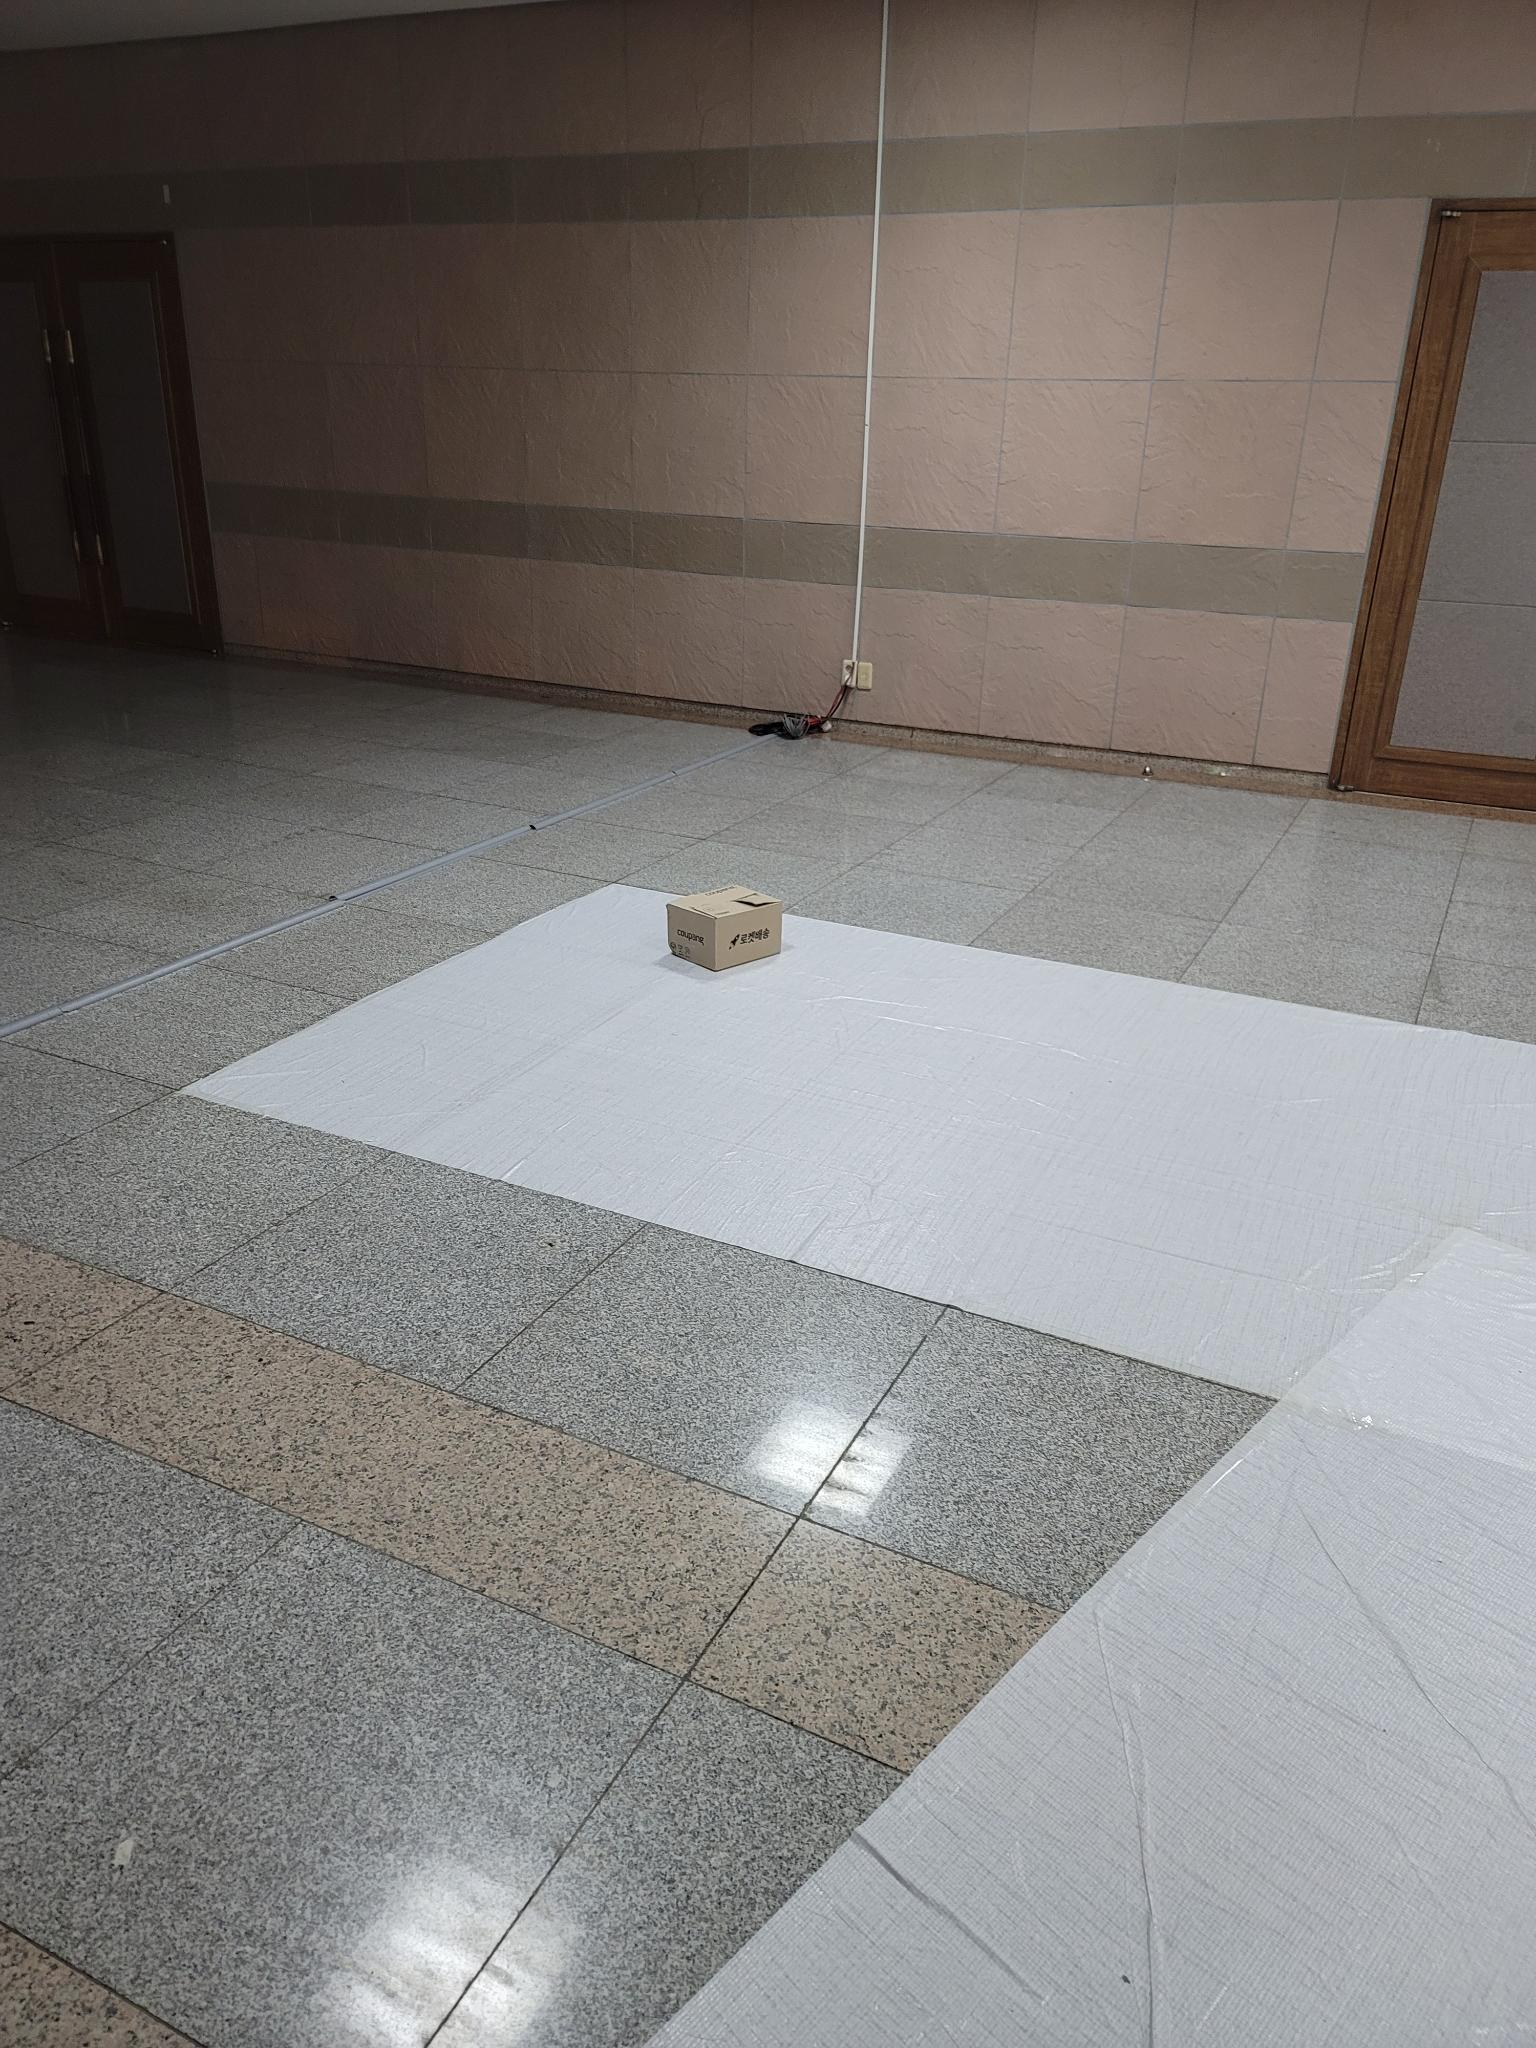Box: (657, 868, 803, 977)
